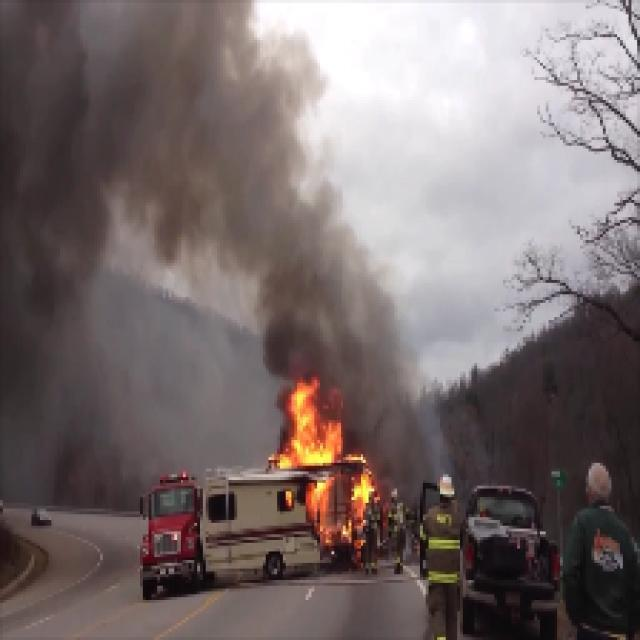Fire: (281, 382, 332, 475)
Smoke: (2, 33, 274, 221), (265, 237, 364, 366), (358, 375, 442, 494)
